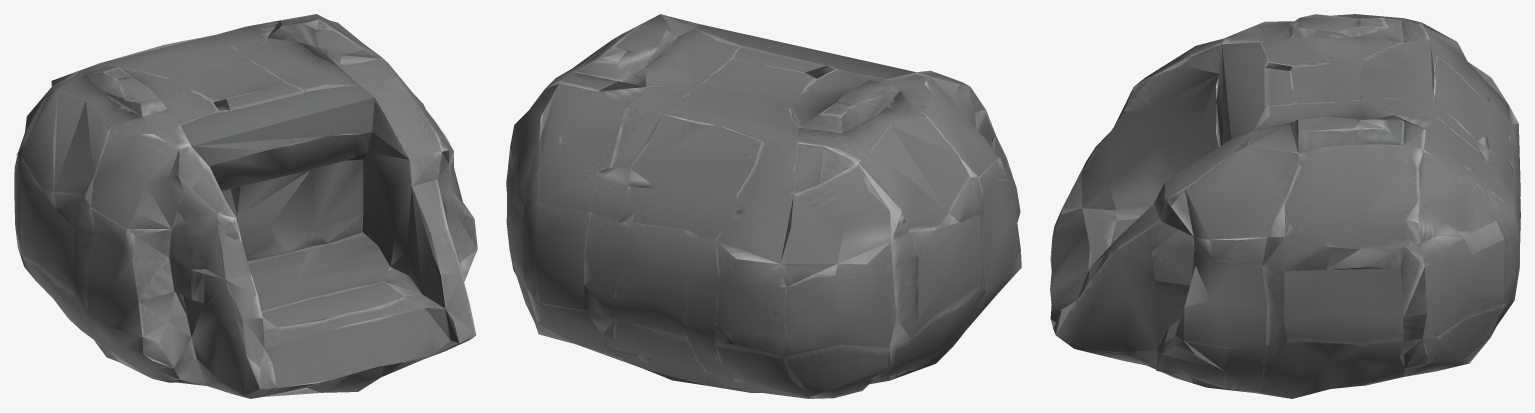
File: shared_flak_tower_large_option__turret_head_lod2.glb
3 views of the same model, side by side, from view 1: azimuth 30°, elevation 25°; view 2: azimuth 150°, elevation 25°; view 3: azimuth 270°, elevation 25° (orthographic). The views are drawn at different scales.
Visible parts, largest first — view 1: mesh_node; view 2: mesh_node; view 3: mesh_node.
Boxes of the visible parts, x1,y1,x2,y2 form: mesh_node: (14, 14, 477, 398); mesh_node: (506, 14, 1021, 398); mesh_node: (1050, 14, 1520, 398).
Bounding box in the file's own units: 5.17 × 3.37 × 5.53.
Materials: 1 (1 with a texture image).
